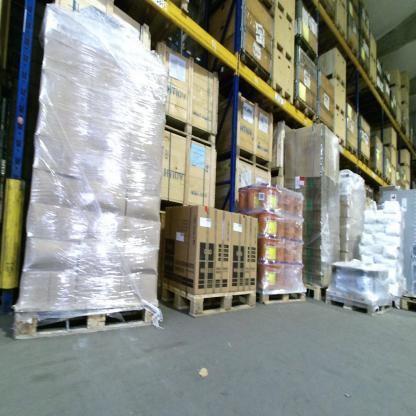pallets: (12, 301, 157, 340), (239, 53, 314, 119), (157, 278, 257, 319), (336, 22, 377, 89), (337, 141, 392, 185), (256, 289, 306, 305), (390, 292, 415, 316)
